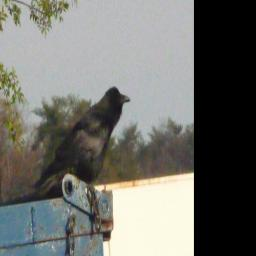Crow: (35, 85, 131, 196)
